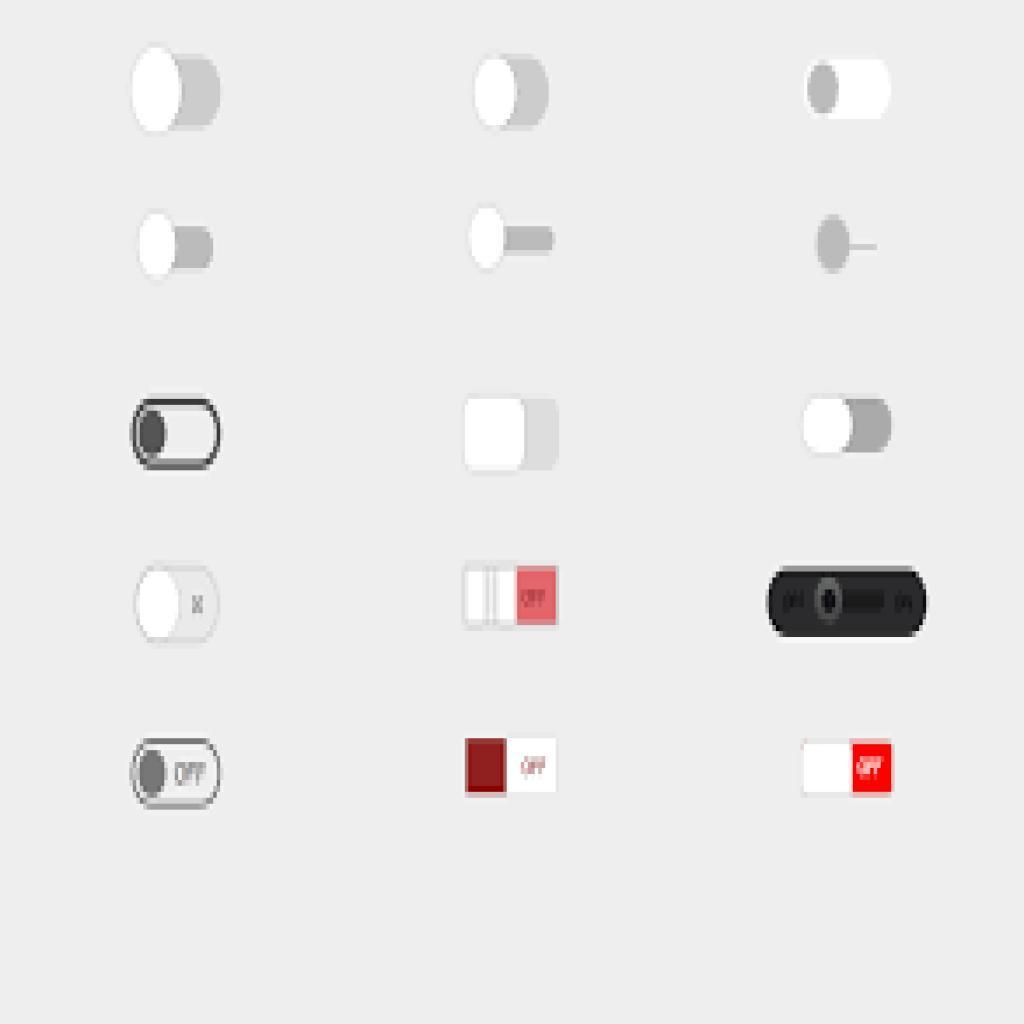label: (812, 216, 891, 274)
switch: (768, 568, 925, 639), (464, 397, 565, 474), (132, 49, 222, 135), (471, 53, 551, 135), (463, 562, 561, 628), (469, 205, 558, 277), (139, 566, 223, 642), (133, 400, 222, 471), (805, 58, 898, 124), (134, 741, 221, 811), (464, 736, 559, 796), (804, 398, 894, 458), (139, 215, 216, 284), (800, 742, 893, 796)
